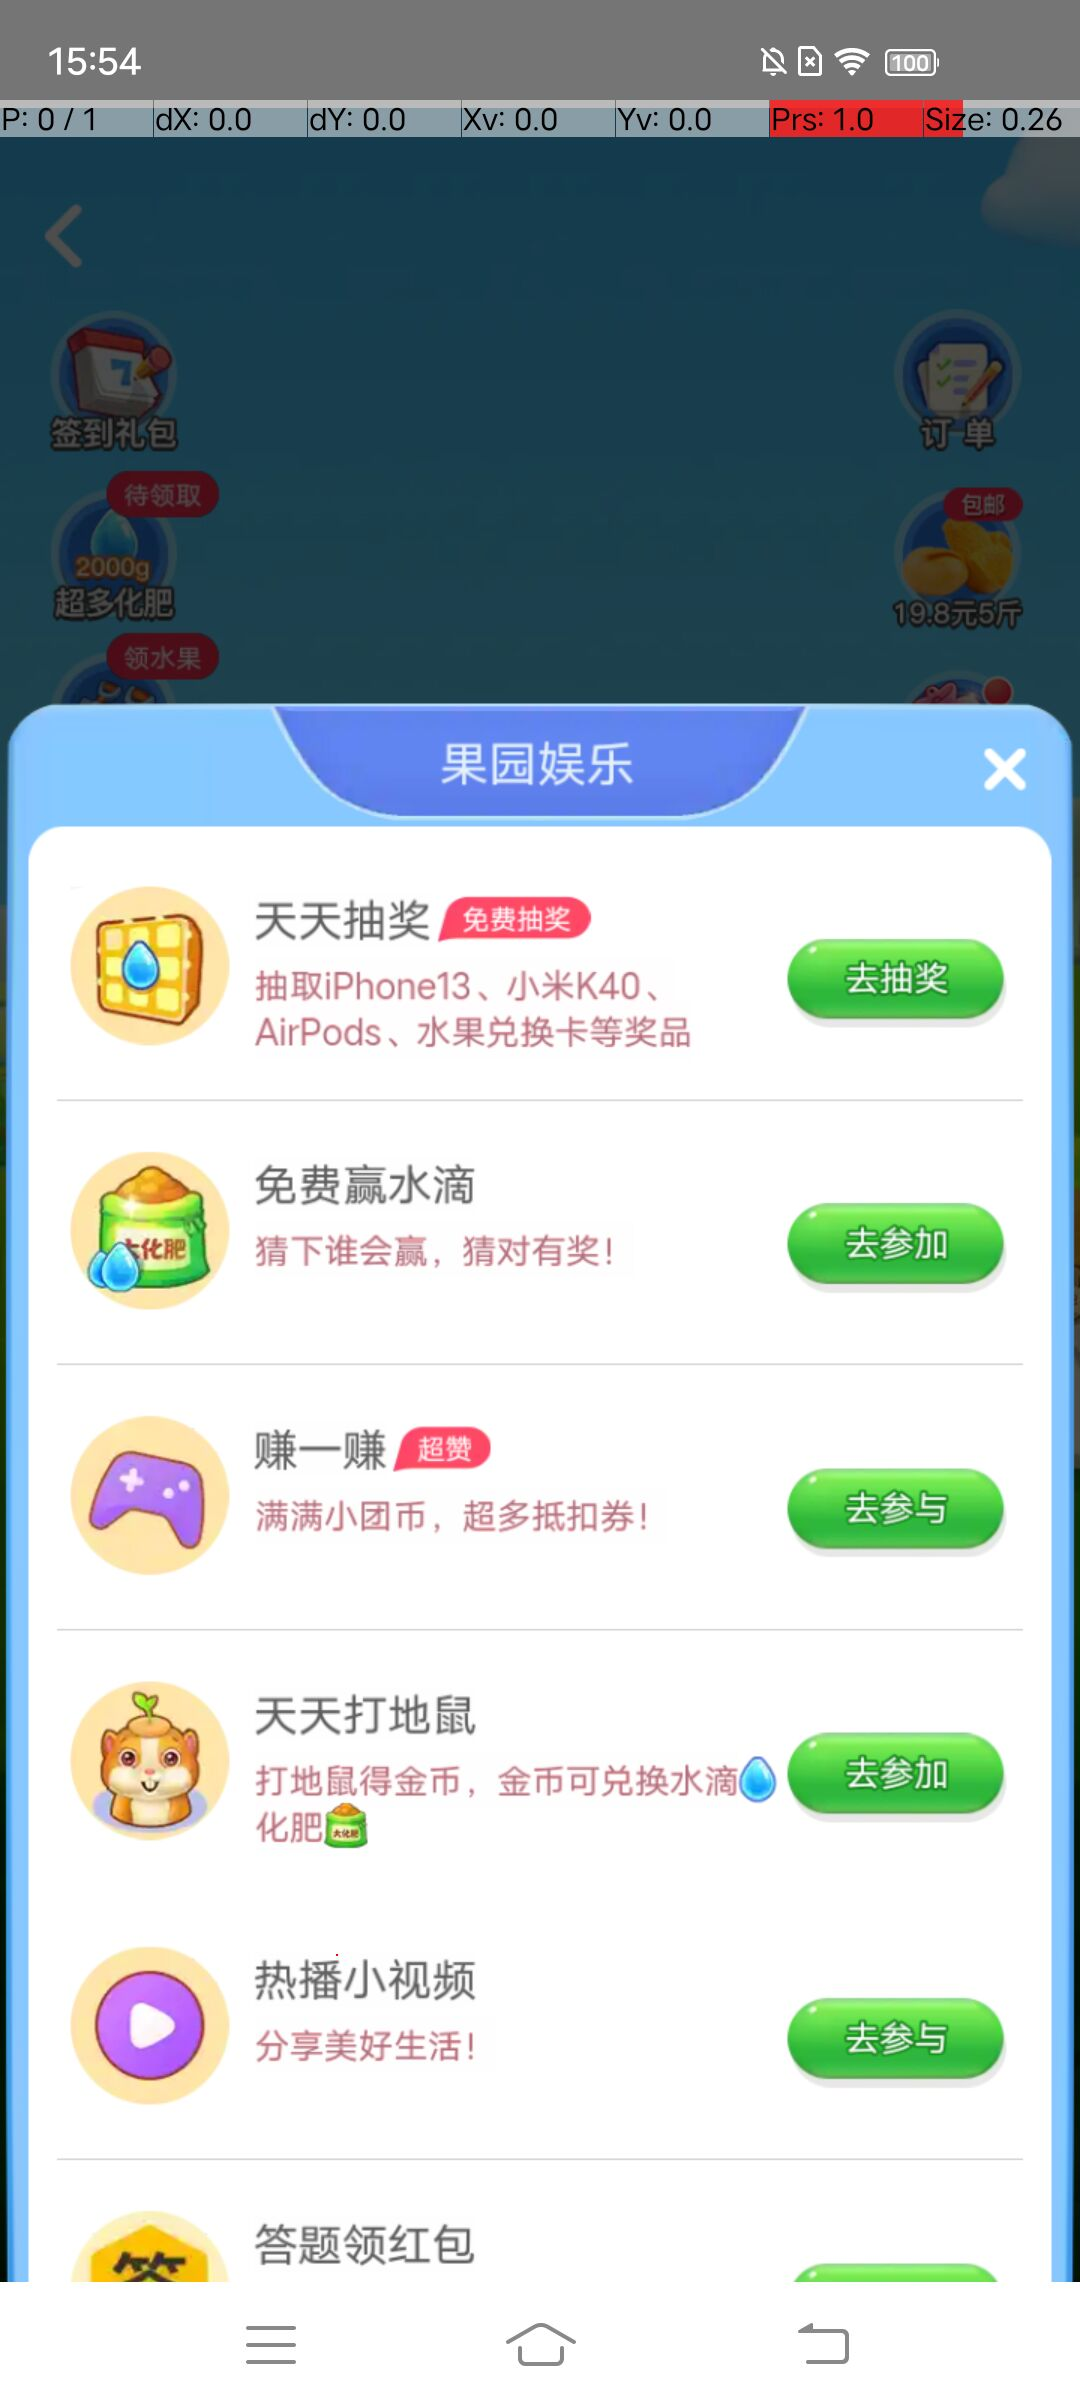popup: (982, 743, 1034, 788)
